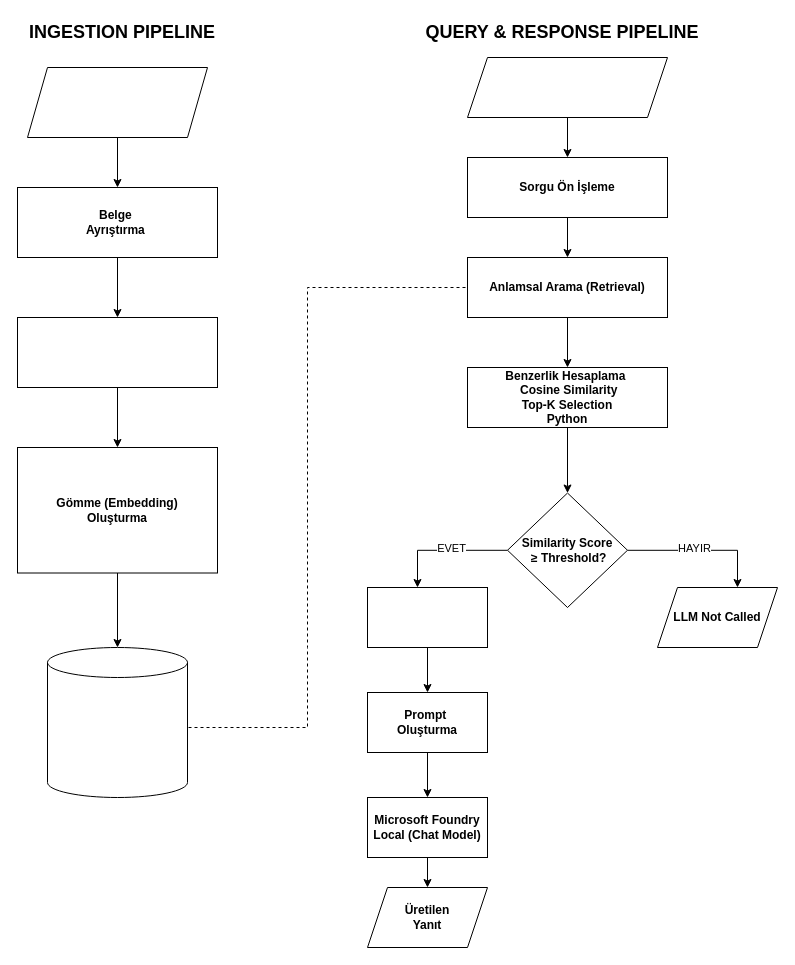
The diagram is 795 pixels wide and 965 high, and some of its shapes have lost their labels. The box of each missing label's shape, as (x1, y1, x2, y2) in pixels:
Bağlam Oluşturma: (366, 586, 488, 648)
Kullanıcı Sorgusu: (466, 56, 668, 118)
Metin Parçalama: (16, 316, 218, 388)
PDF/ TXT BELGELERİ: (26, 66, 208, 138)
SQLite Veritabanı: (46, 646, 188, 798)
